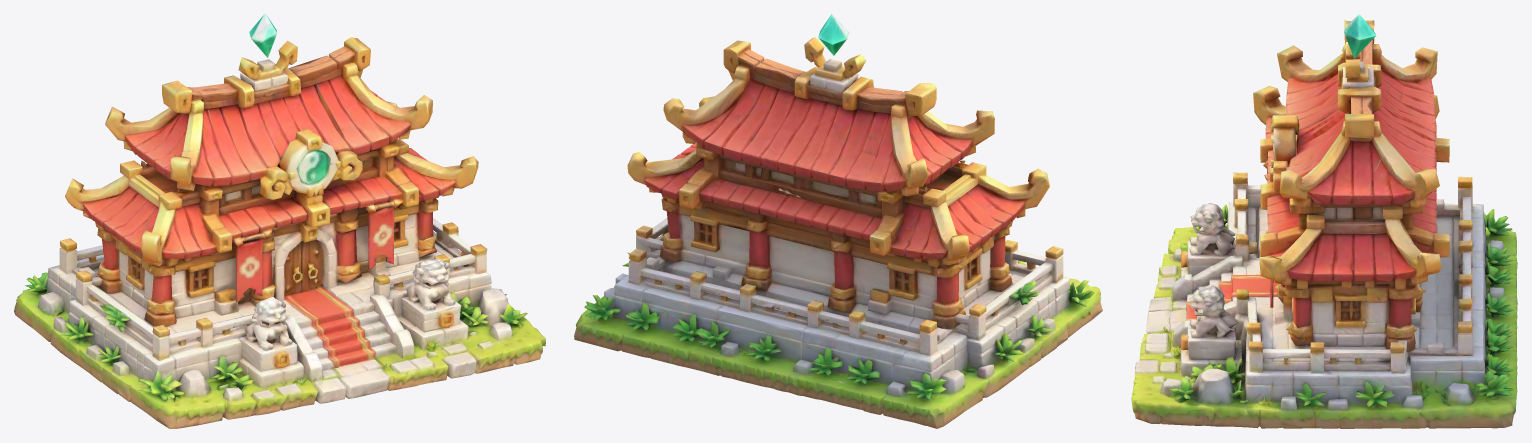
The model's file is cn_core.glb.
3 views of the same model, side by side, from view 1: azimuth 30°, elevation 25°; view 2: azimuth 150°, elevation 25°; view 3: azimuth 270°, elevation 25° (orthographic). The views are drawn at different scales.
Parts seen in each view (by area): view 1: model; view 2: model; view 3: model.
Boxes of the visible parts, x1=… form: model: x1=14, y1=14, x2=545, y2=428; model: x1=574, y1=14, x2=1102, y2=428; model: x1=1131, y1=14, x2=1517, y2=428.
Bounding box in the file's own units: 1.91 × 1.45 × 1.58.
Materials: 1 (1 with a texture image).
